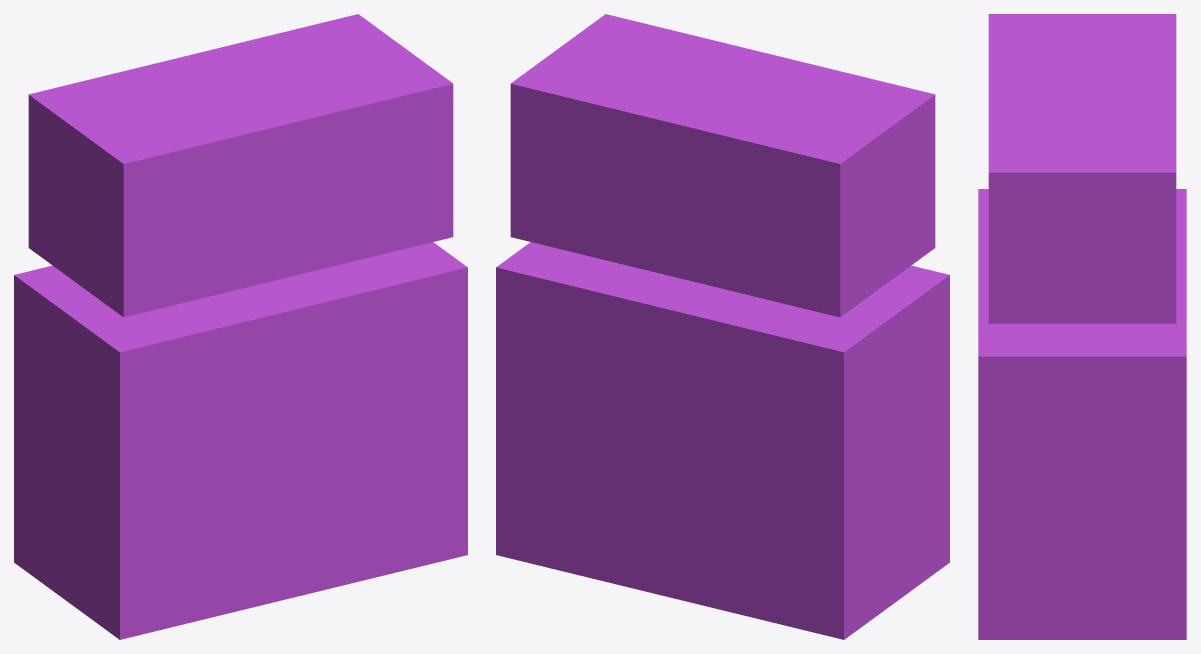
File: female_biker_set.glb
The picture shows the model from 3 angles, left to right: view 1: azimuth 30°, elevation 25°; view 2: azimuth 150°, elevation 25°; view 3: azimuth 270°, elevation 25°; orthographic projection.
Parts seen in each view (by area): view 1: BikerSet; view 2: BikerSet; view 3: BikerSet.
Part boxes in pixels (bbox=[...]): BikerSet: bbox=[14, 14, 467, 639]; BikerSet: bbox=[496, 14, 949, 639]; BikerSet: bbox=[978, 14, 1186, 639].
Size of the model in its own units: 0.38 by 0.49 by 0.2.
